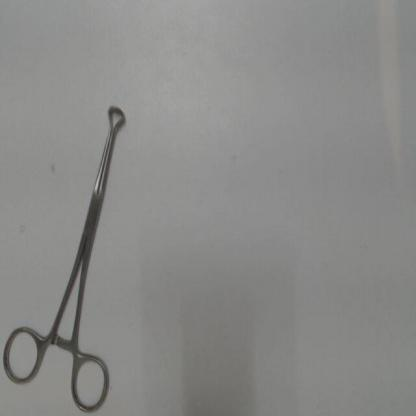Babcock Tissue Forceps: (2, 98, 131, 414)
